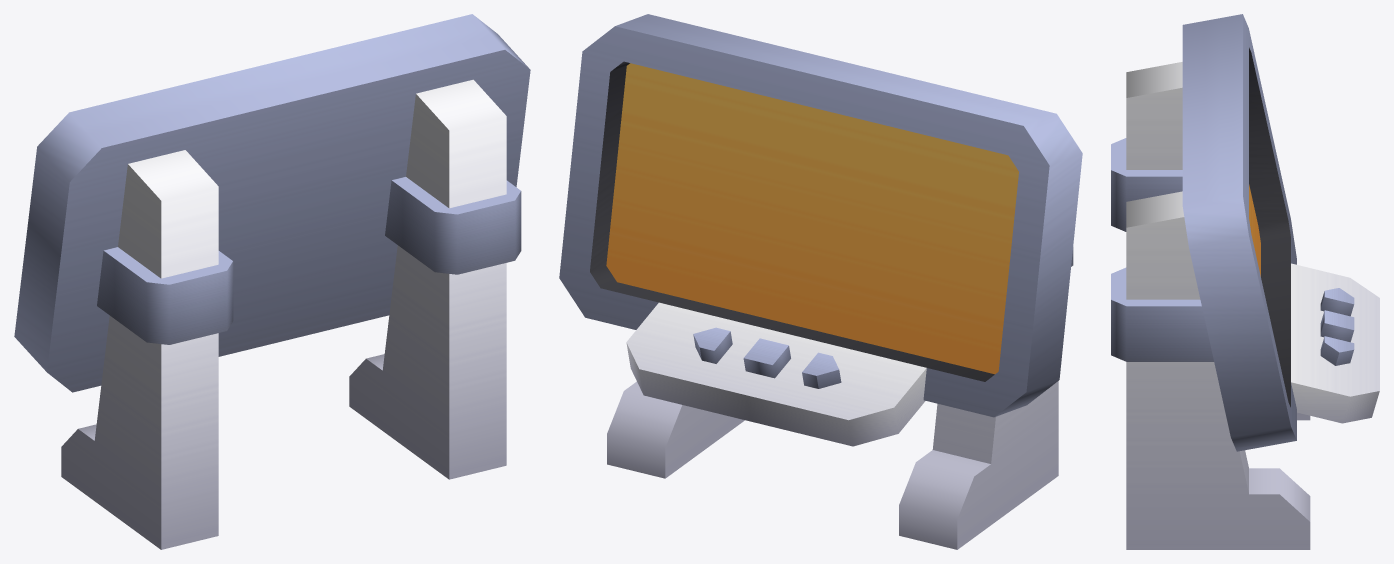
The model's file is scifi-computer-screen.fbx.
3 renders of one model, left to right at view 1: azimuth 30°, elevation 25°; view 2: azimuth 150°, elevation 25°; view 3: azimuth 270°, elevation 25°, orthographic. The views are drawn at different scales.
Parts seen in each view (by area): view 1: scifi-computer-screen; view 2: scifi-computer-screen; view 3: scifi-computer-screen.
Part boxes in pixels (x1,y1,x2,y2): scifi-computer-screen: (14, 14, 530, 549); scifi-computer-screen: (559, 14, 1082, 549); scifi-computer-screen: (1111, 14, 1379, 549).
Bounding box in the file's own units: 0.8 × 0.4381 × 0.6609.
